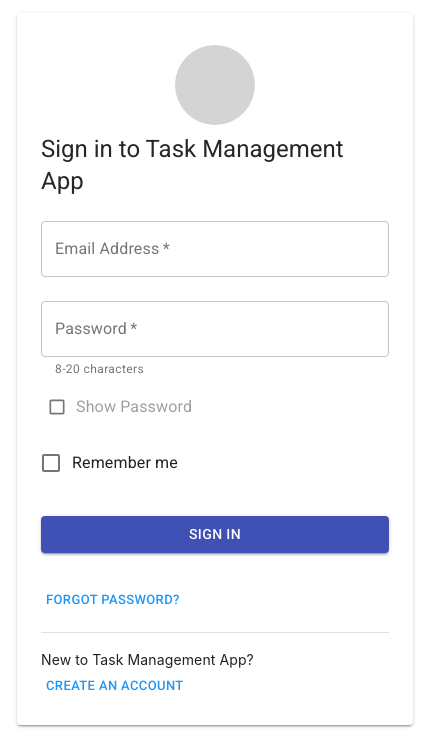
Test: SignIn › Link existence › has a button link to the forgot-password page
Click the button "Forgot password?". click: (113, 600)
box: [41, 585, 185, 616]
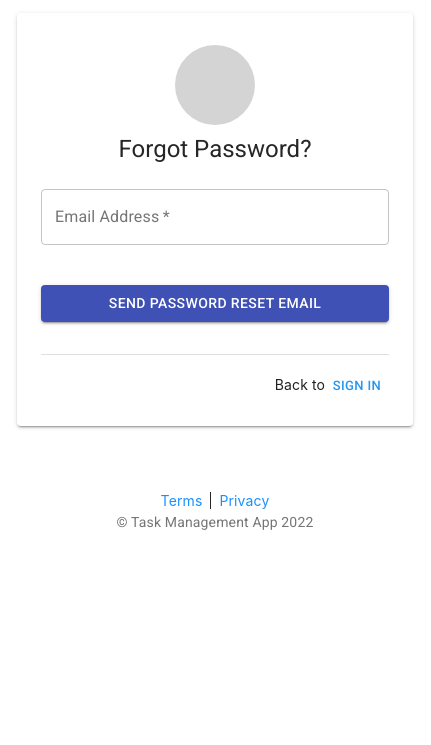
Expected: the heading "Forgot Password?" is shown, [118, 133, 311, 165]
